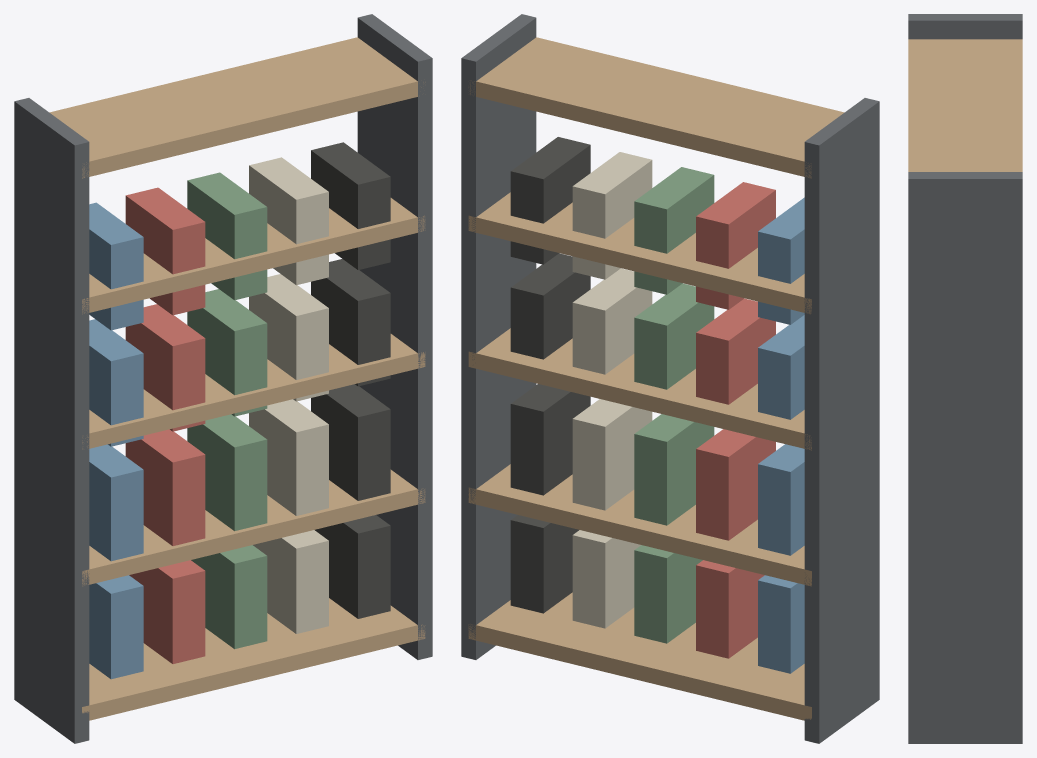
File: binder_shelf_01.glb
3 renders of one model, left to right at view 1: azimuth 30°, elevation 25°; view 2: azimuth 150°, elevation 25°; view 3: azimuth 270°, elevation 25°, orthographic. The views are drawn at different scales.
Visible parts, largest first — view 1: side-0.525, side0.525, shelf4, shelf0, shelf1, shelf3, shelf2, binder1_2, binder1_1, binder1_4, binder1_3, binder2_2 (+15 smaller); view 2: side-0.525, side0.525, shelf4, shelf0, shelf1, shelf3, shelf2, binder1_4, binder1_3, binder1_2, binder1_1, binder2_4 (+15 smaller); view 3: side0.525, shelf4, side-0.525.
Part boxes in pixels (<box>): side-0.525: <box>14,98,89,743</box>; side0.525: <box>357,14,432,659</box>; shelf4: <box>49,37,425,178</box>; shelf0: <box>82,598,425,720</box>; shelf1: <box>82,469,425,586</box>; shelf3: <box>82,198,425,314</box>; shelf2: <box>82,334,425,449</box>; binder1_2: <box>187,414,267,531</box>; binder1_1: <box>125,429,205,545</box>; binder1_4: <box>311,384,390,500</box>; binder1_3: <box>249,399,328,515</box>; binder2_2: <box>187,289,267,416</box>; side-0.525: <box>804,98,879,743</box>; side0.525: <box>461,14,536,659</box>; shelf4: <box>468,37,844,178</box>; shelf0: <box>468,592,811,720</box>; shelf1: <box>468,464,811,586</box>; shelf3: <box>468,192,811,314</box>; shelf2: <box>468,328,811,450</box>; binder1_4: <box>510,384,590,495</box>; binder1_3: <box>572,399,652,510</box>; binder1_2: <box>634,414,714,525</box>; binder1_1: <box>696,429,775,540</box>; binder2_4: <box>510,253,590,359</box>; side0.525: <box>908,172,1022,743</box>; shelf4: <box>908,39,1022,171</box>; side-0.525: <box>908,14,1022,39</box>.
Size of the model in its own units: 1.1 by 1.75 by 0.32.
